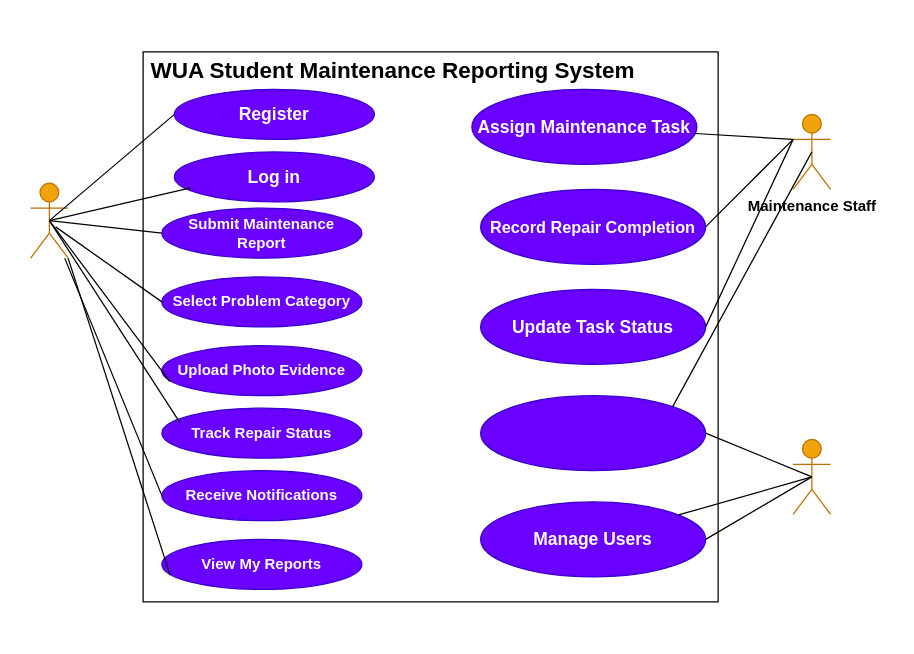
This 914x654 diagram has some shape labels left out. The shapes that lost their labels are listed below. From the top down, each one's centre as x and y in pixels, then its label:
At (48,220): "Studen t".
At (592,432): "General Reports".
At (811,476): "System Administration".
